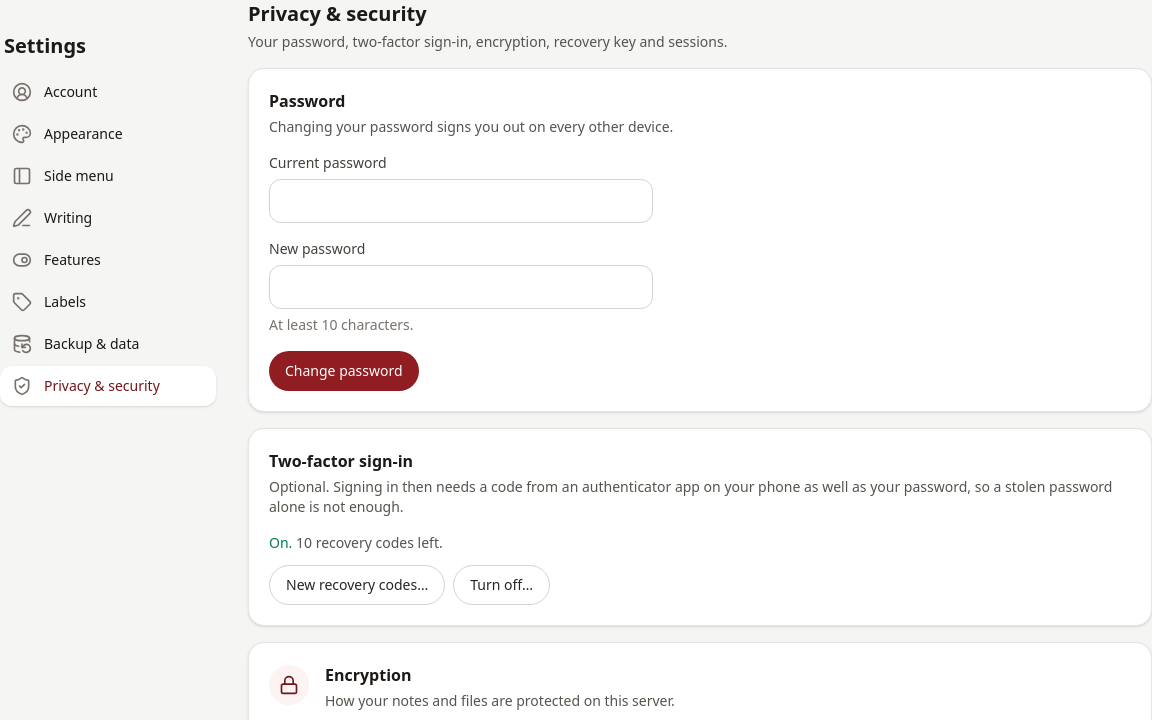
Test case: Settings › turns two-factor sign-in off with the password and a code
Expected: the text "10 recovery codes left." is shown, x1=296 y1=533 x2=443 y2=552
Click the button "Turn off…" at (502, 585), box x1=453 y1=565 x2=550 y2=605
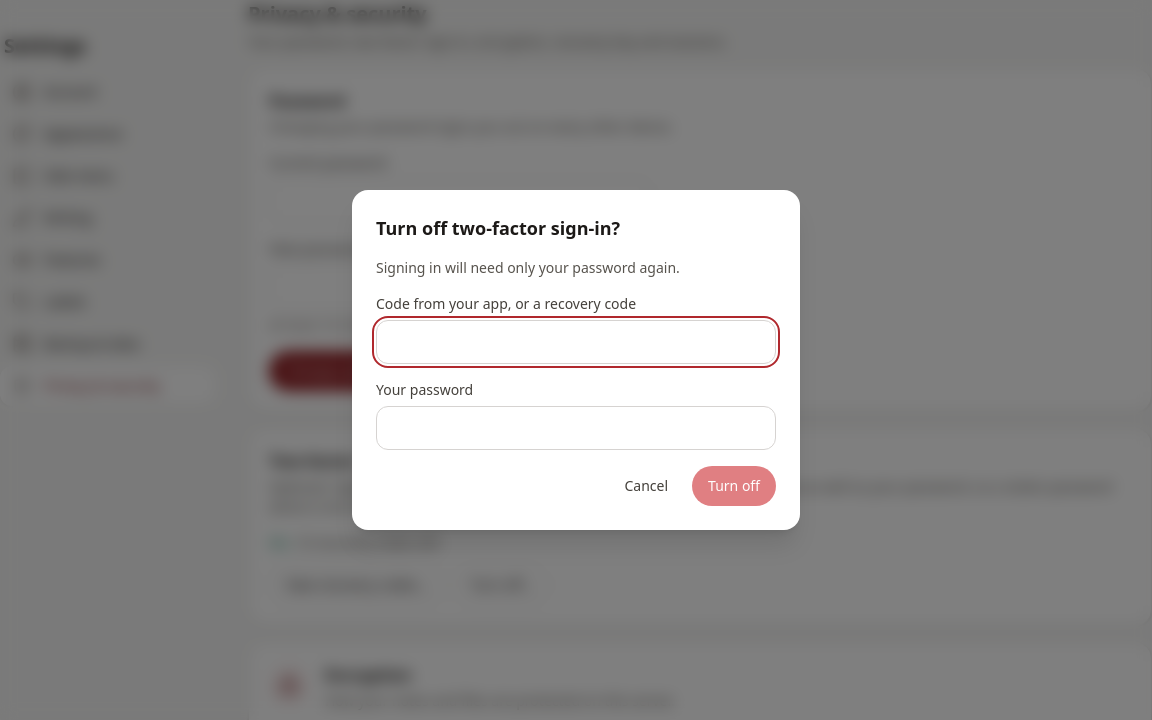
Type "abcde-fghjk" into the field labelled "Code from your app, or a recovery code" at (576, 342), box x1=376 y1=320 x2=776 y2=364
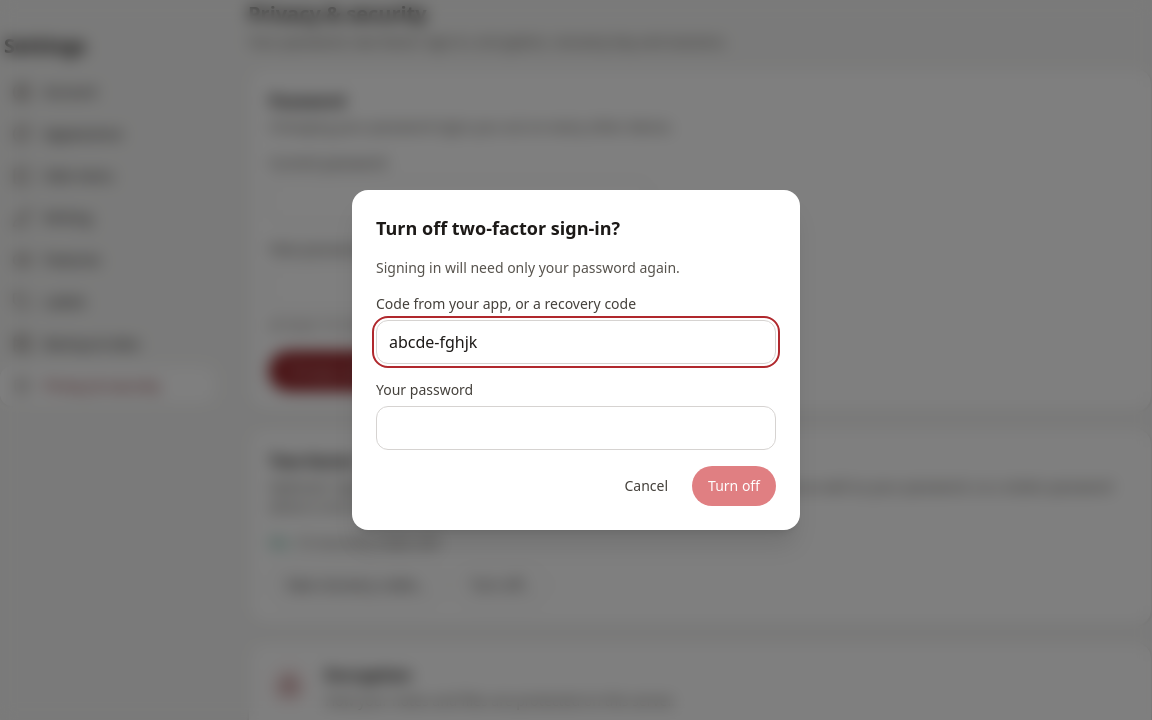
Type "correct horse battery staple" into the password field labelled "Your password" at (576, 428), box x1=376 y1=406 x2=776 y2=450
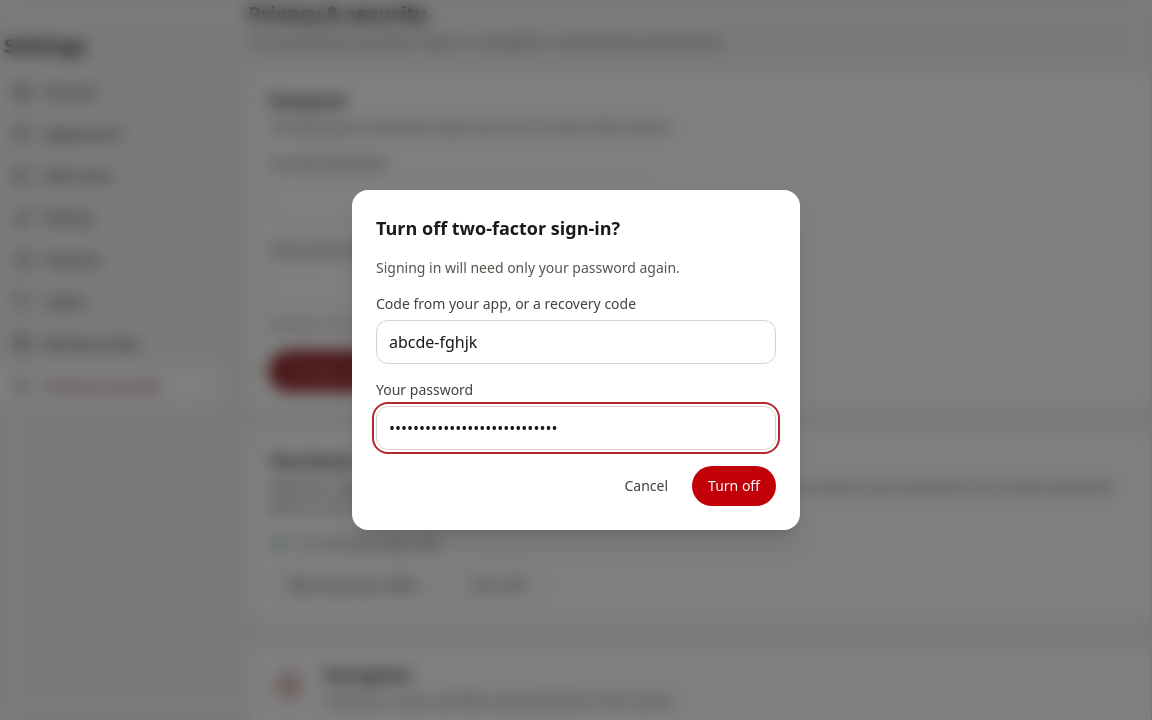
Click the button "Turn off" at (734, 486), box x1=692 y1=466 x2=776 y2=506
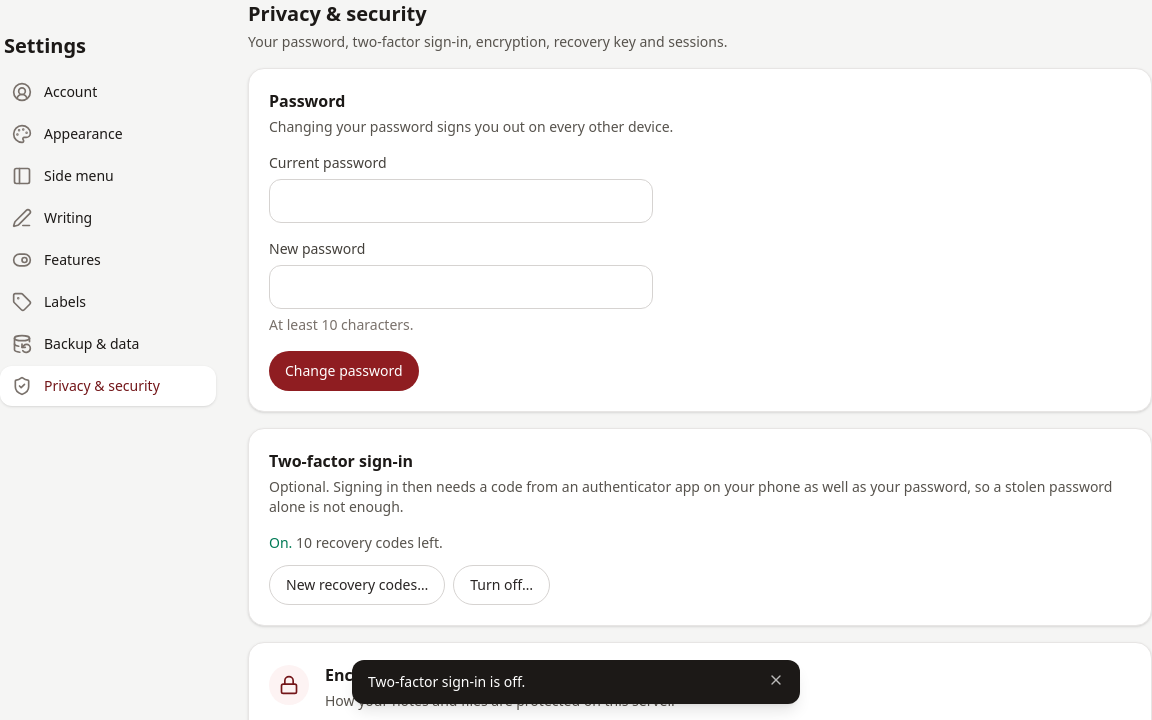
Expected: the text "Two-factor sign-in is off." is shown, x1=368 y1=672 x2=525 y2=691
